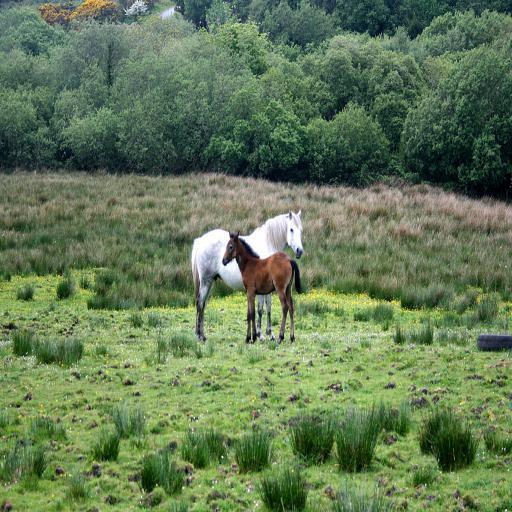horse: (190, 210, 304, 344), (221, 230, 303, 344)
